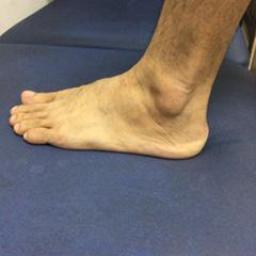Lateral View -Left Foot-: (5, 42, 224, 170)
